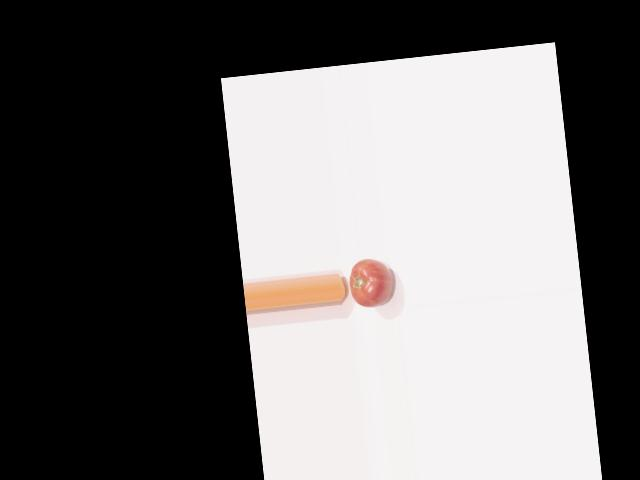tomato: (347, 256, 394, 308)
